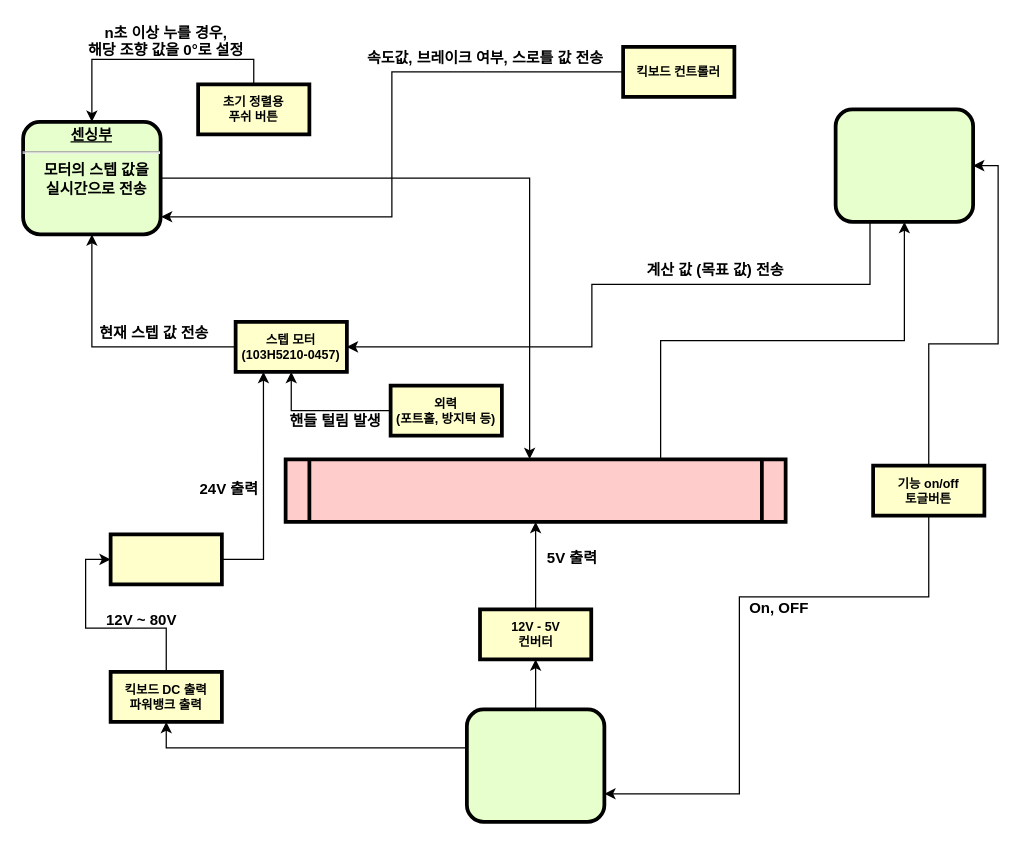
This 1030x845 diagram has some shape labels left out. Each missing label, with the centre of its shape:
12V - 24V 컨버터: (x=165, y=559)
전원부 킥보드의 12V 출력을 이용, OR 파워뱅크 사용: (x=535, y=765)
전자식 댐퍼 시스템 제어부 [라즈베리파이] PBL 6조: (x=535, y=490)
제어부 스텝모터를 이용해 핸들 털림 방지: (x=903, y=165)
